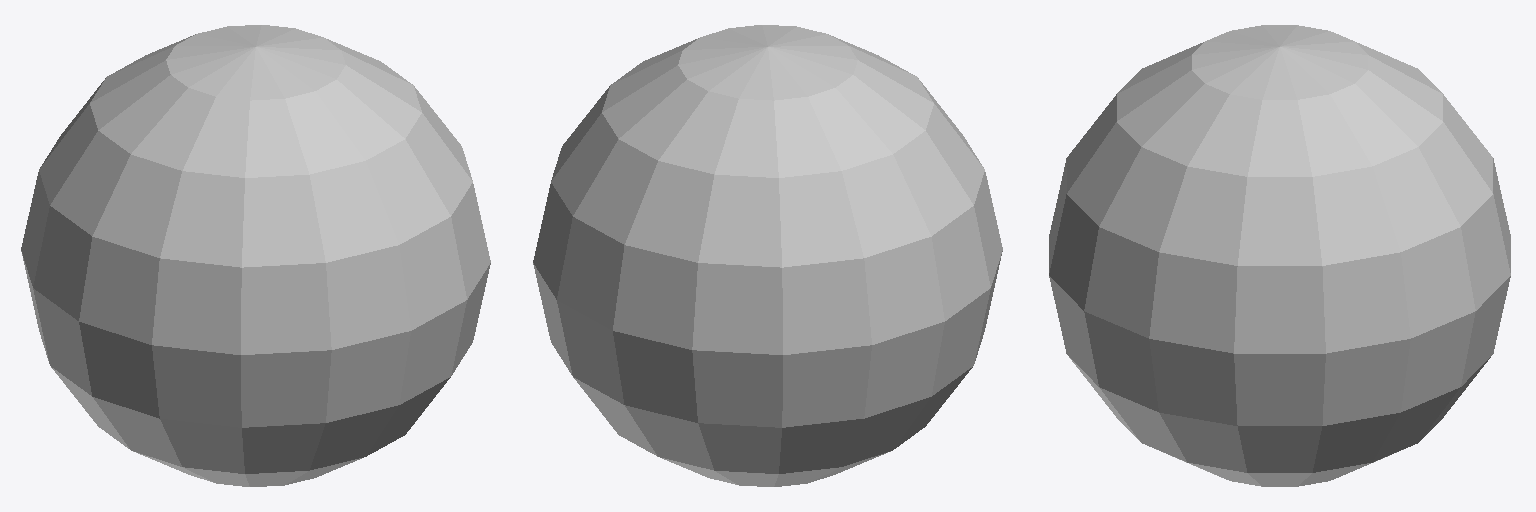
Rendered from blackhole.obj.
3 views of the same model, side by side, from view 1: azimuth 30°, elevation 25°; view 2: azimuth 150°, elevation 25°; view 3: azimuth 270°, elevation 25° (orthographic).
Parts seen in each view (by area): view 1: blackhole; view 2: blackhole; view 3: blackhole.
Boxes of the visible parts, box(x1,y1,x2,y2) form: blackhole: box(21, 25, 490, 486); blackhole: box(533, 25, 1002, 486); blackhole: box(1049, 25, 1510, 486).
Size of the model in its own units: 15 by 15 by 15.